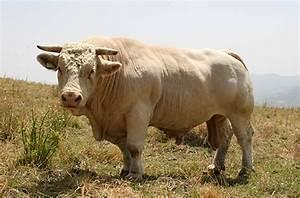cow: (35, 35, 255, 186)
